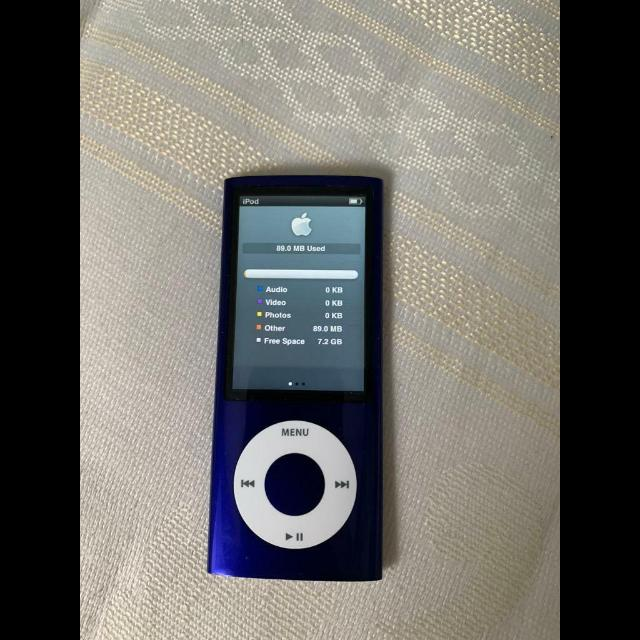Music-Player: (198, 164, 418, 596)
